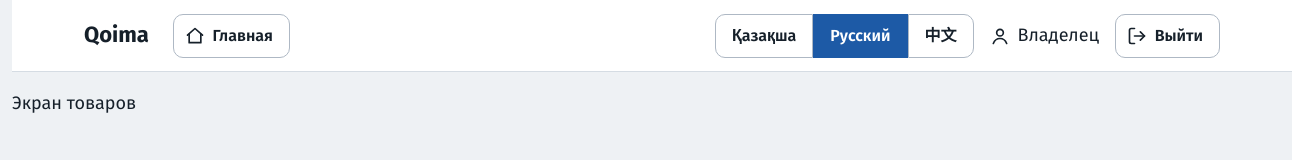
Scenario: language after login › is saved on the server when switched in the header
This screenshot has width=1292, height=160.
Expected: the text "Экран товаров" is shown, x1=12 y1=92 x2=136 y2=114
Click the button "Қазақша".
click(764, 36)  # box x1=715 y1=14 x2=813 y2=58
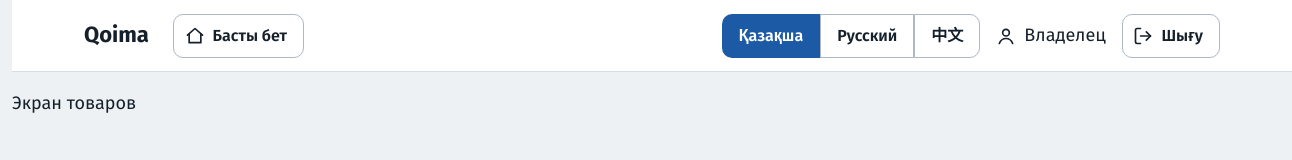
Now the link "Басты бет" is shown, box x1=173 y1=14 x2=304 y2=58
Now the button "Шығу" is shown, box x1=1122 y1=14 x2=1220 y2=58
